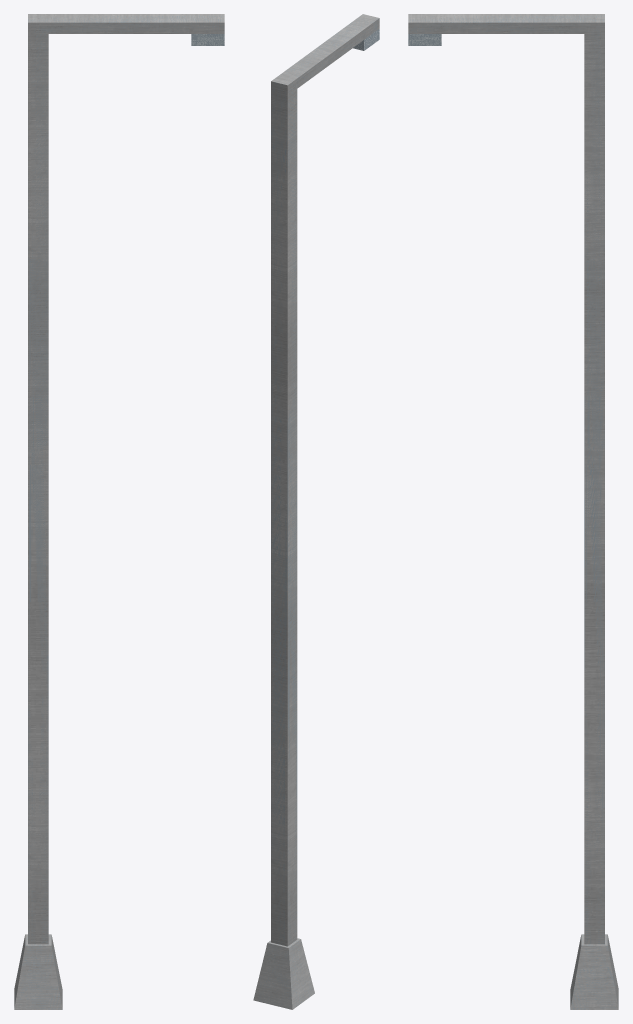
Rendered from poste_luz.fbx.
3 views of the same model, side by side, from view 1: azimuth 90°, elevation 25°; view 2: azimuth 150°, elevation 25°; view 3: azimuth 270°, elevation 25° (orthographic). The views are drawn at different scales.
Visible parts, largest first — view 1: Model; view 2: Model; view 3: Model.
Boxes of the visible parts, <box> form: Model: <box>14,14,224,1009</box>; Model: <box>253,14,379,1009</box>; Model: <box>408,14,618,1009</box>.
Bounding box in the file's own units: 0.22 × 4.92 × 0.9569.
